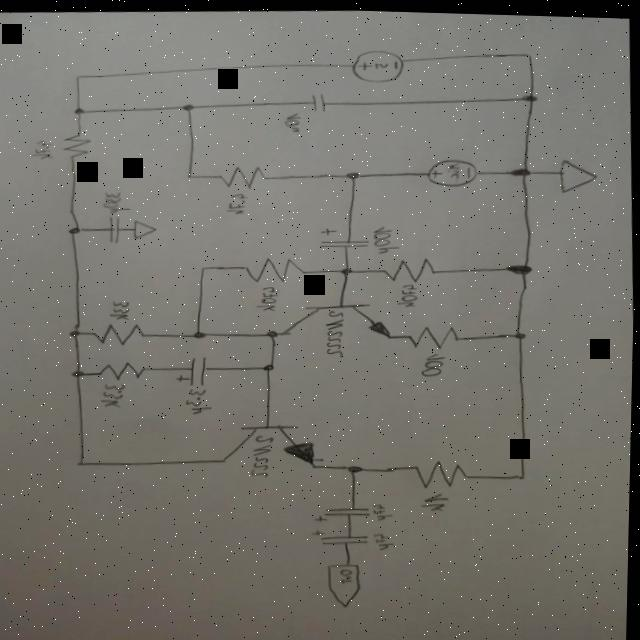capacitor: (310, 522, 373, 544), (316, 222, 371, 247), (314, 501, 375, 522), (174, 352, 211, 385), (106, 213, 123, 242), (308, 88, 329, 110)
ground: (556, 153, 600, 190), (131, 216, 158, 238)
junction: (503, 257, 537, 274), (508, 160, 532, 174), (508, 324, 531, 337), (68, 364, 88, 378), (261, 324, 281, 338), (346, 459, 366, 472), (66, 324, 84, 338), (343, 166, 363, 178), (261, 358, 277, 370), (336, 262, 355, 272), (65, 224, 84, 234), (71, 103, 87, 114), (180, 99, 196, 110), (514, 467, 530, 477), (191, 328, 207, 337), (522, 89, 538, 98), (182, 170, 195, 177), (72, 71, 84, 78), (75, 458, 88, 464), (198, 263, 208, 269), (523, 47, 533, 53)
resistor: (407, 453, 473, 485), (239, 253, 310, 280), (402, 319, 461, 346), (379, 252, 437, 279), (91, 319, 148, 345), (215, 160, 266, 187), (97, 357, 150, 380), (59, 129, 92, 159)
source: (347, 45, 406, 80)
terminal: (325, 557, 365, 605)
text: (250, 430, 279, 477), (323, 306, 348, 355), (370, 219, 402, 251), (184, 384, 216, 413), (98, 378, 128, 408), (101, 188, 135, 214), (255, 280, 283, 310), (419, 347, 448, 375), (421, 486, 452, 509), (395, 277, 420, 305), (30, 136, 58, 160), (224, 187, 249, 213), (106, 297, 134, 319), (373, 527, 396, 547), (283, 109, 302, 131), (373, 498, 394, 517), (445, 157, 461, 177), (340, 565, 354, 581), (373, 57, 389, 66)
transistor: (218, 414, 327, 470), (284, 294, 390, 339)
